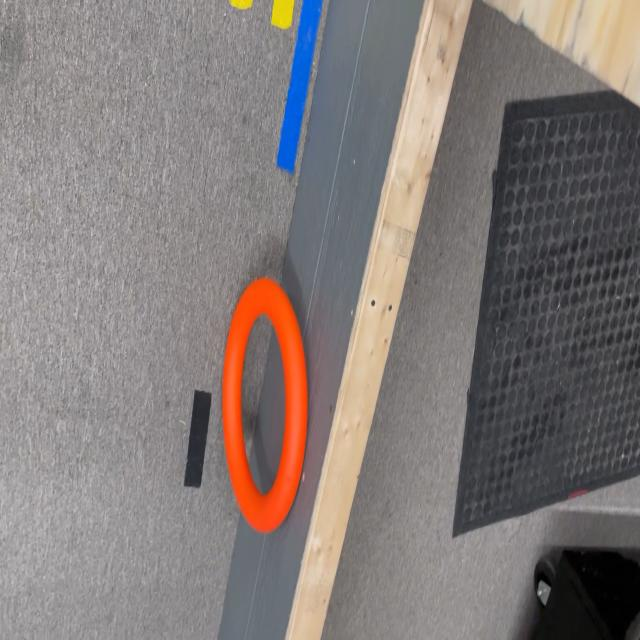note: (221, 280, 310, 530)
